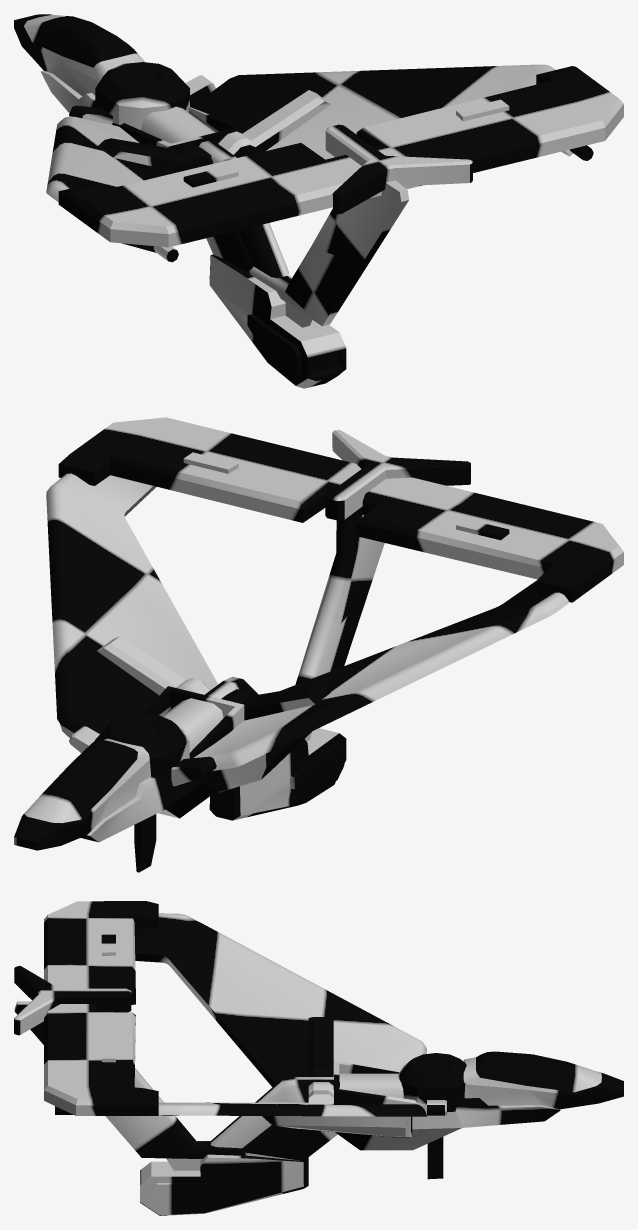
File: pet_diminisher.obj
The picture shows the model from 3 angles, top to bottom: view 1: azimuth 30°, elevation 25°; view 2: azimuth 150°, elevation 25°; view 3: azimuth 270°, elevation 25°; orthographic projection. The views are drawn at different scales.
Visible parts, largest first — view 1: pet_diminisher_lowpoly; view 2: pet_diminisher_lowpoly; view 3: pet_diminisher_lowpoly.
Boxes of the visible parts, left/top/right/bottom form: pet_diminisher_lowpoly: left=14, top=14, right=623, bottom=388; pet_diminisher_lowpoly: left=14, top=417, right=623, bottom=872; pet_diminisher_lowpoly: left=14, top=901, right=623, bottom=1215.
Bounding box in the file's own units: 90.79 × 46.3 × 116.
1 material, 1 textured.
